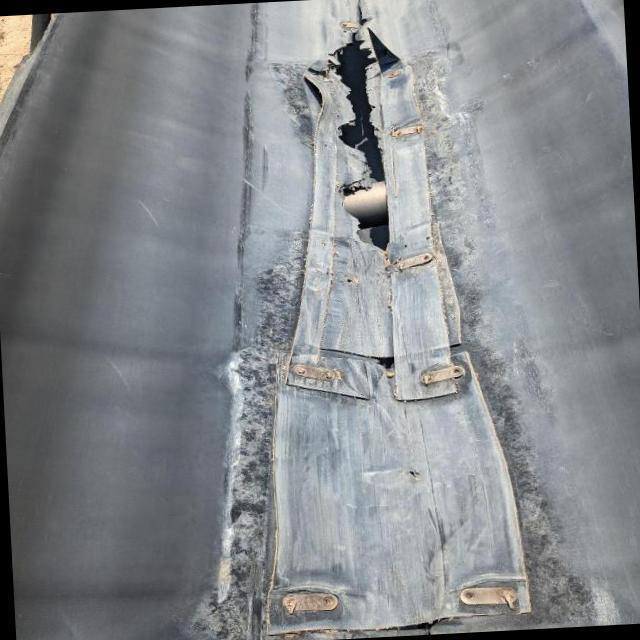Hole: (298, 1, 410, 256)
